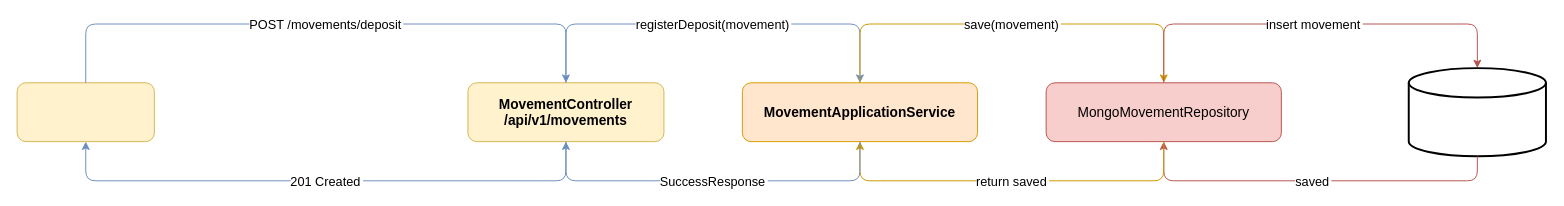
The diagram is 1564 pixels wide and 206 high, and some of its shapes have lost their labels. The box of each missing label's shape, as (x1, y1, x2, y2) in pixels:
Client: (16, 82, 154, 142)
MongoDB movements: (1407, 67, 1546, 157)
